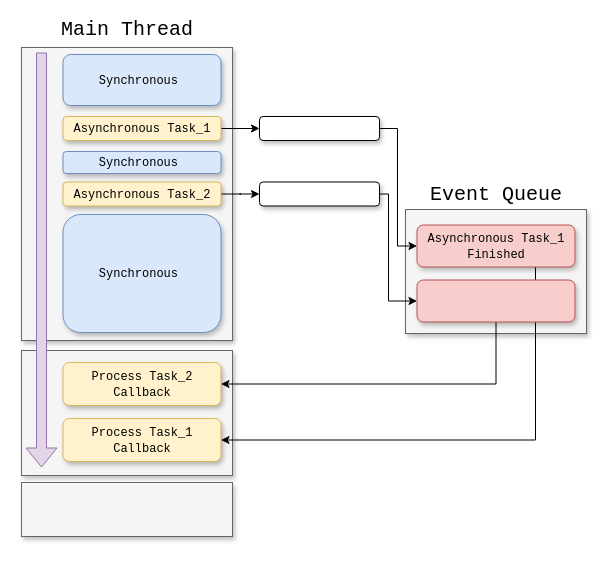
Some shapes in this 610 by 561 pixel diagram are drawn without their labels. Here are the shapes that lost their labels. From the top down, the centre of each, then its label:
At point 320,130: "execute task_1".
At point 320,195: "execute task_2".
At point 496,302: "Asynchronous Task_2 Finished".
At point 127,511: "Continuous Checking Event Queue".
